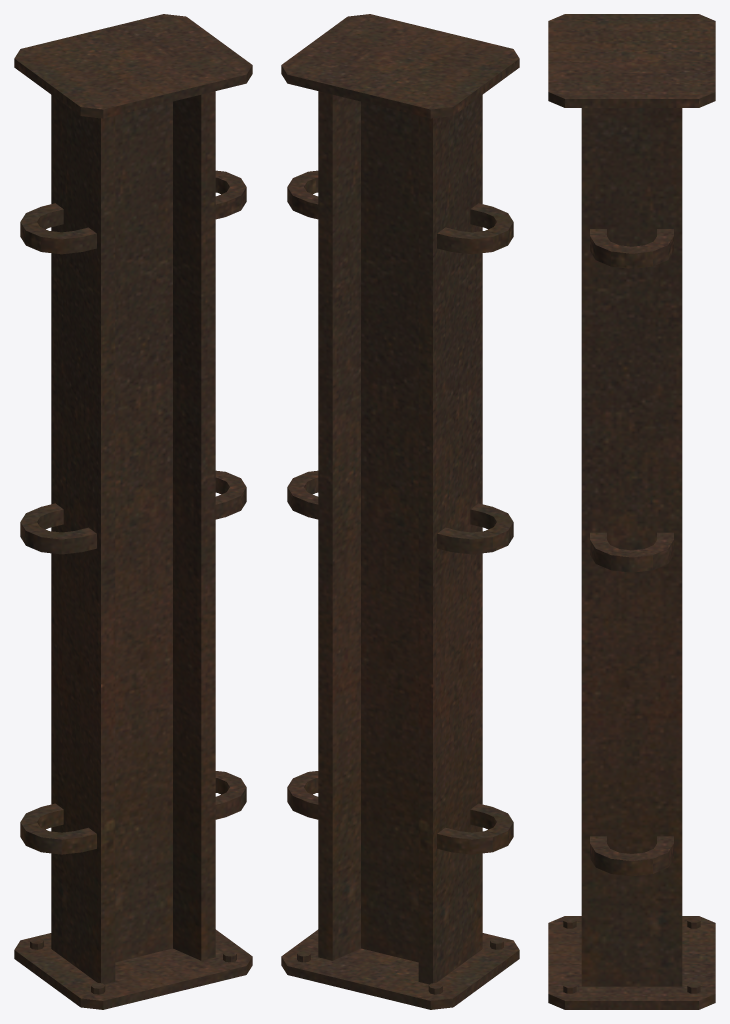
Rendered from beam_hc_vertical_2.obj.
3 renders of one model, left to right at view 1: azimuth 30°, elevation 25°; view 2: azimuth 150°, elevation 25°; view 3: azimuth 270°, elevation 25°, orthographic.
Visible parts, largest first — view 1: beam_hc_vertical_2; view 2: beam_hc_vertical_2; view 3: beam_hc_vertical_2.
Part boxes in pixels (bbox=[...]): beam_hc_vertical_2: bbox=[14, 14, 252, 1009]; beam_hc_vertical_2: bbox=[281, 14, 519, 1009]; beam_hc_vertical_2: bbox=[548, 14, 715, 1009].
Size of the model in its own units: 0.75 by 3 by 0.5.
